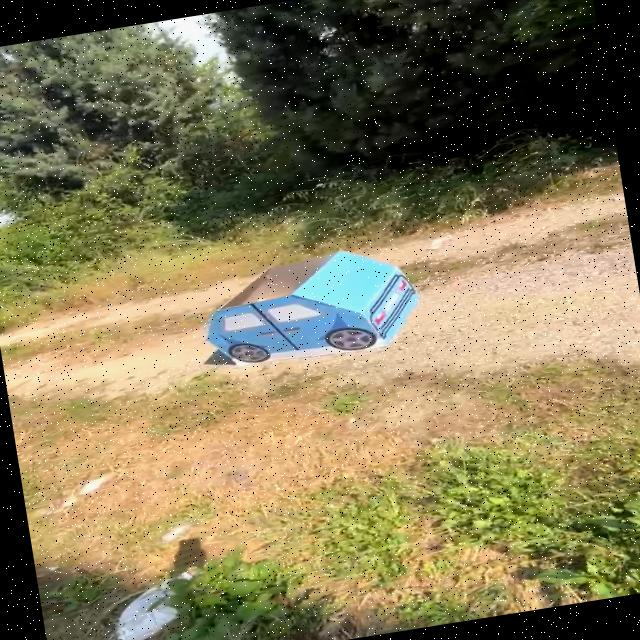blue_car: (175, 230, 462, 392)
